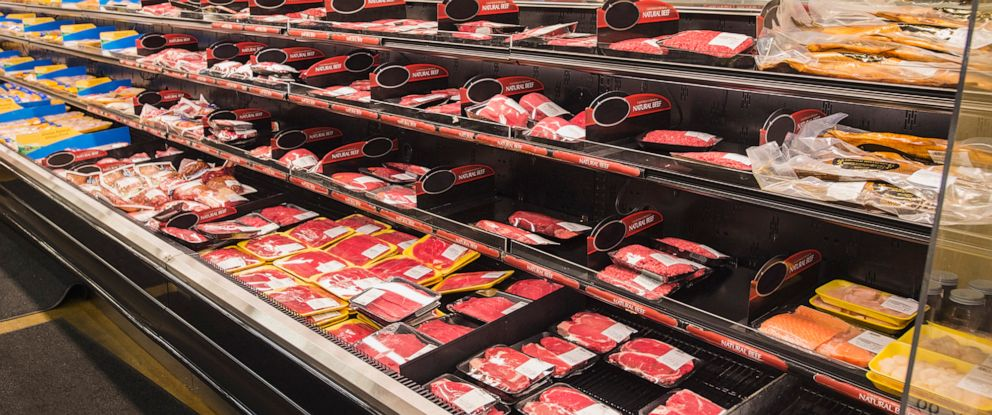ground_beef: (237, 199, 471, 339)
